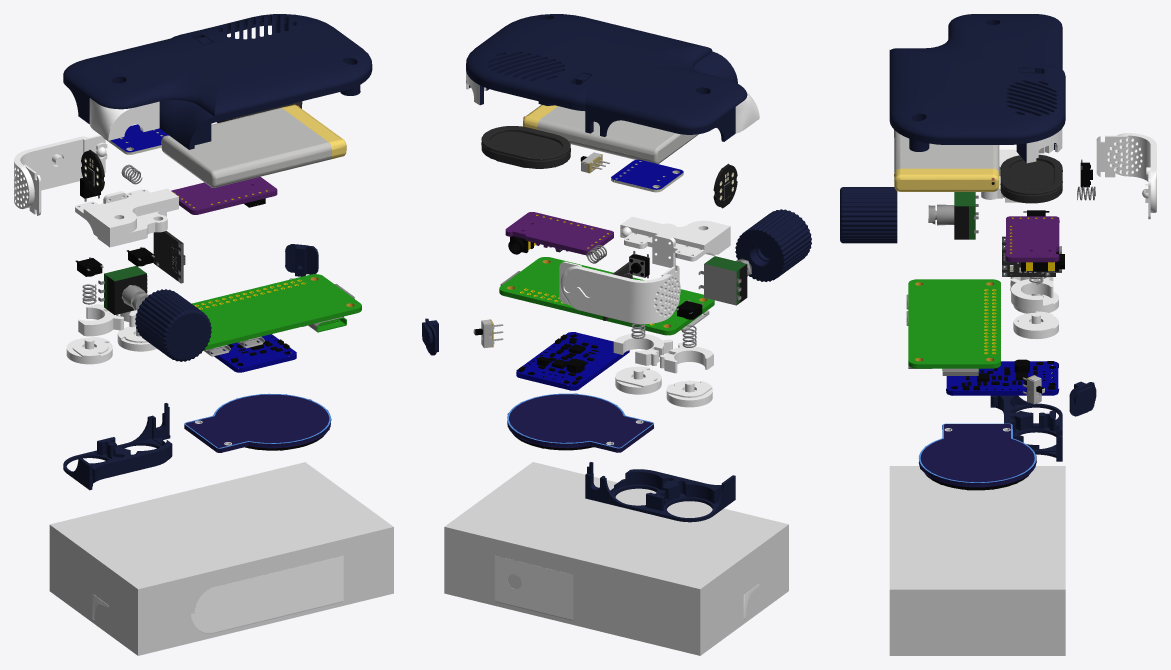
File: player_labeled.glb
3 renders of one model, left to right at view 1: azimuth 30°, elevation 25°; view 2: azimuth 150°, elevation 25°; view 3: azimuth 270°, elevation 25°, orthographic.
Visible parts, largest first — view 1: AudiobookPlayer, Back Shell.001, Body1.013, Body1, Top Shell, Body1.016, Button Bracket, Back Button, knob, Top Button Shell.001, Digital Analog (Audio) Converter, Rotary Encoder.001 (+9 smaller); view 2: AudiobookPlayer, Back Shell.001, Body1.016, Back Button, Top Button Shell.001, Body1.013, Body1, Power Module, knob, Top Shell, Button Bracket, Digital Analog (Audio) Converter (+8 smaller); view 3: AudiobookPlayer, Back Shell.001, Body1, Body1.016, knob, Power Module, Back Button, Digital Analog (Audio) Converter, Speaker, Body1.013, Body2.003, Top Button Shell.001 (+6 smaller).
Boxes of the visible parts, x1,y1,x2,y2 form: AudiobookPlayer: (49,462,393,655); Back Shell.001: (63,14,372,149); Body1.013: (161,108,331,187); Body1: (192,274,361,356); Top Shell: (92,555,343,633); Body1.016: (184,393,331,452); Button Bracket: (75,188,178,247); Back Button: (14,135,107,215); knob: (135,289,211,361); Top Button Shell.001: (63,403,172,490); Digital Analog (Audio) Converter: (171,176,277,214); Rotary Encoder.001: (98,265,148,314); AudiobookPlayer: (444,462,788,655); Back Shell.001: (466,14,759,141); Body1.016: (507,393,653,452); Back Button: (559,261,680,323); Top Button Shell.001: (585,462,735,522); Body1.013: (537,106,698,163); Body1: (499,257,714,335); Power Module: (516,332,629,390); knob: (735,209,811,281); Top Shell: (494,555,759,620); Button Bracket: (620,216,730,267); Digital Analog (Audio) Converter: (505,212,613,255); AudiobookPlayer: (889,466,1065,655); Back Shell.001: (889,14,1065,163); Body1: (906,279,1000,370); Body1.016: (918,423,1036,487); knob: (840,187,897,243); Power Module: (946,359,1059,395); Back Button: (1096,133,1156,219); Digital Analog (Audio) Converter: (1006,216,1064,271); Speaker: (1000,154,1062,203); Body1.013: (894,130,999,178); Body2.003: (894,168,999,191); Top Button Shell.001: (990,395,1062,461).
Size of the model in its own units: 7.6 by 14.14 by 7.69.
